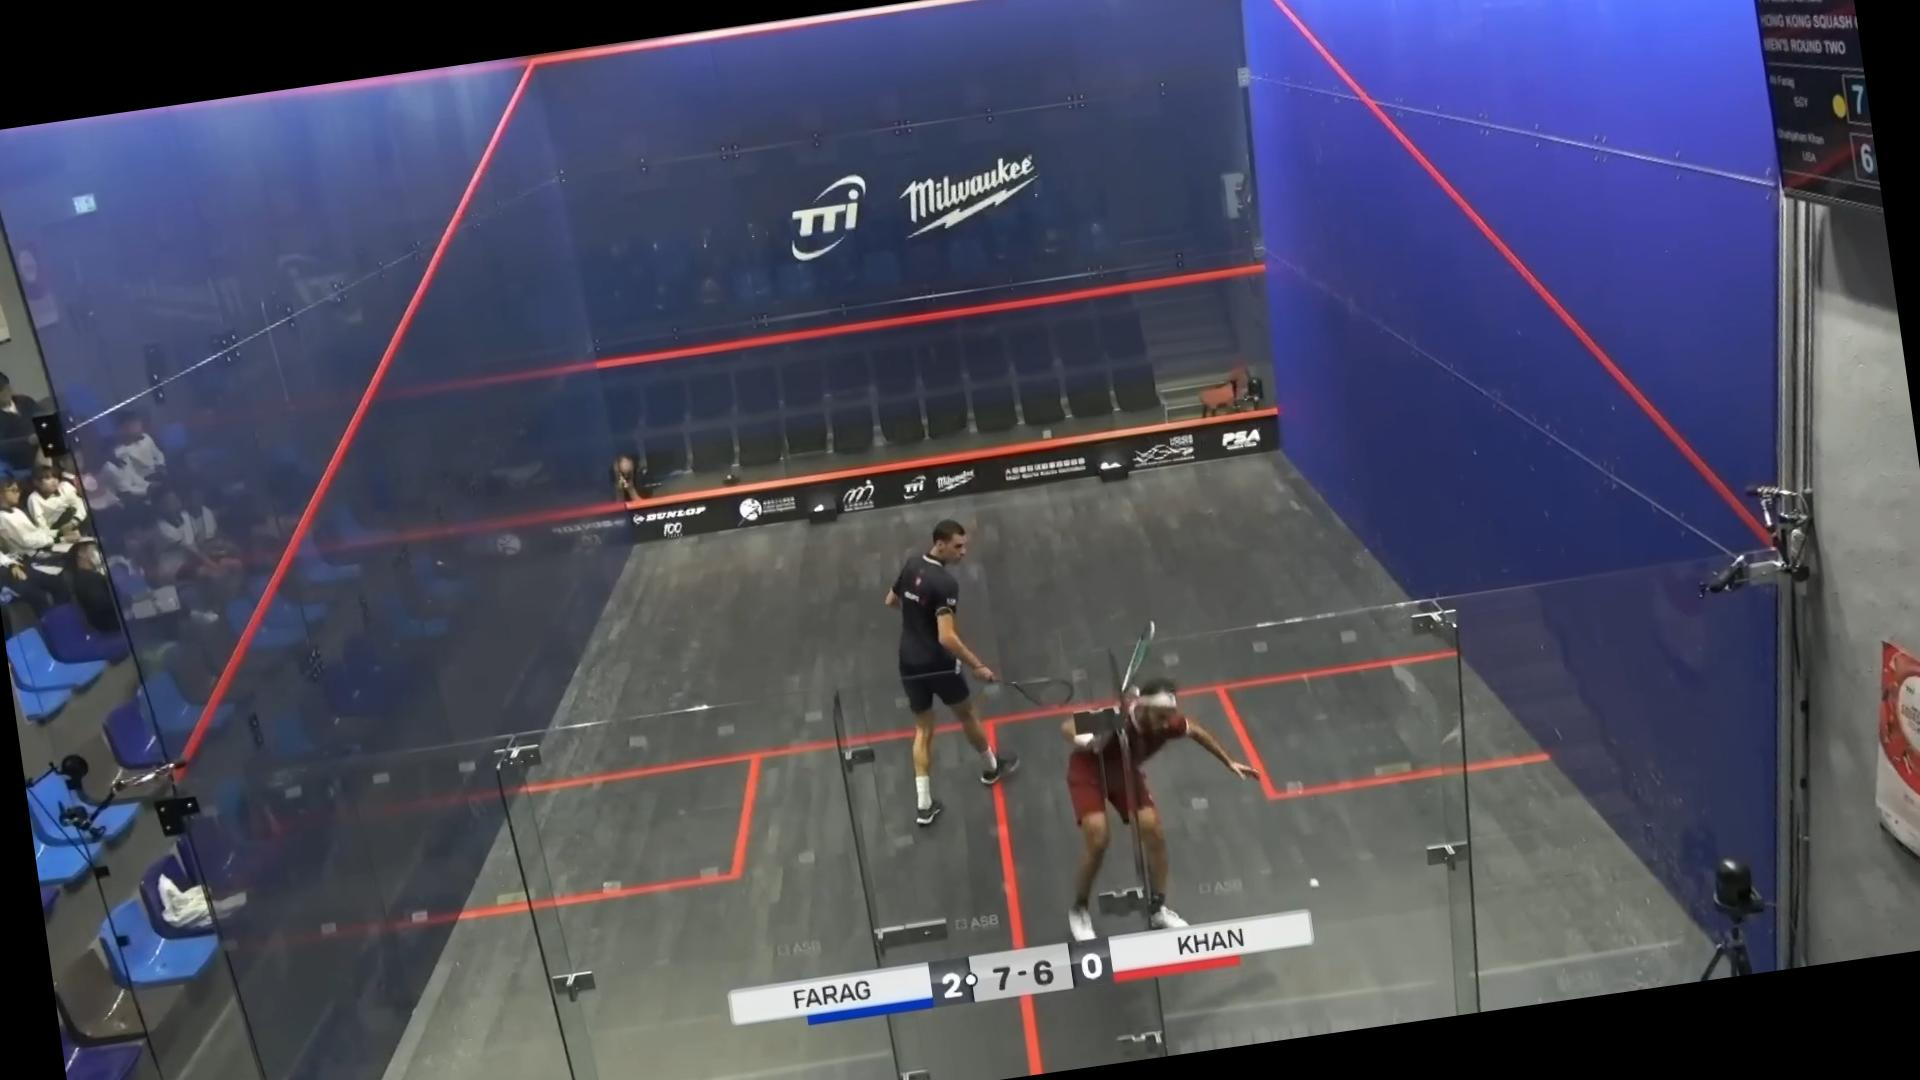Racket: (1092, 603, 1171, 723), (1000, 663, 1087, 717)
